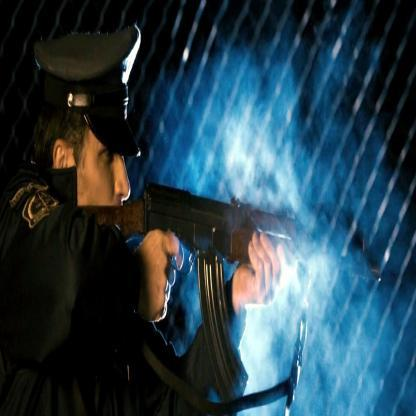gun: (83, 192, 385, 416)
